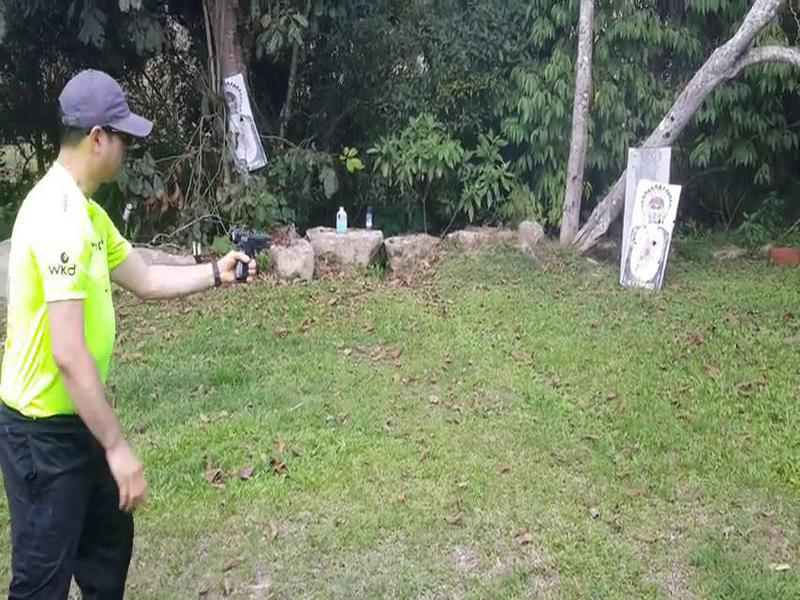Pistola: (224, 224, 279, 287)
